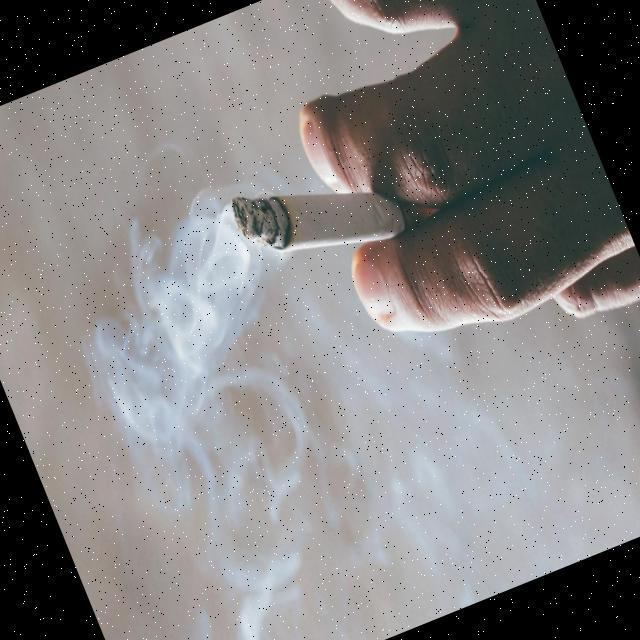cigarette: (214, 129, 420, 298)
